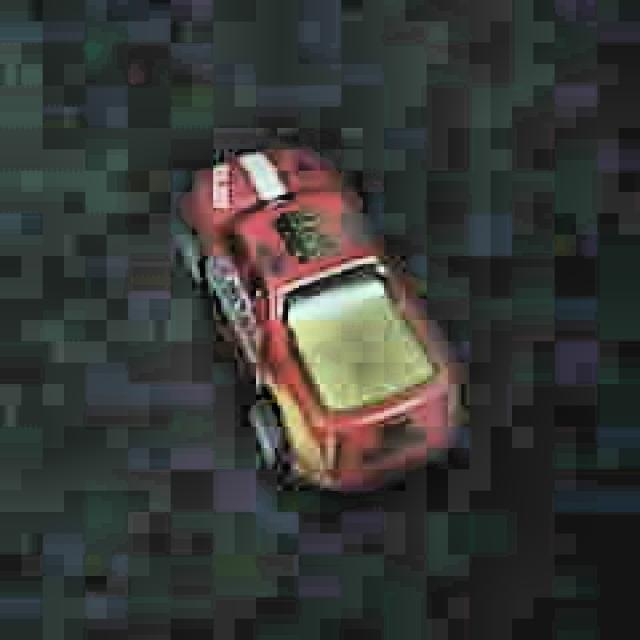car: (173, 135, 474, 495)
